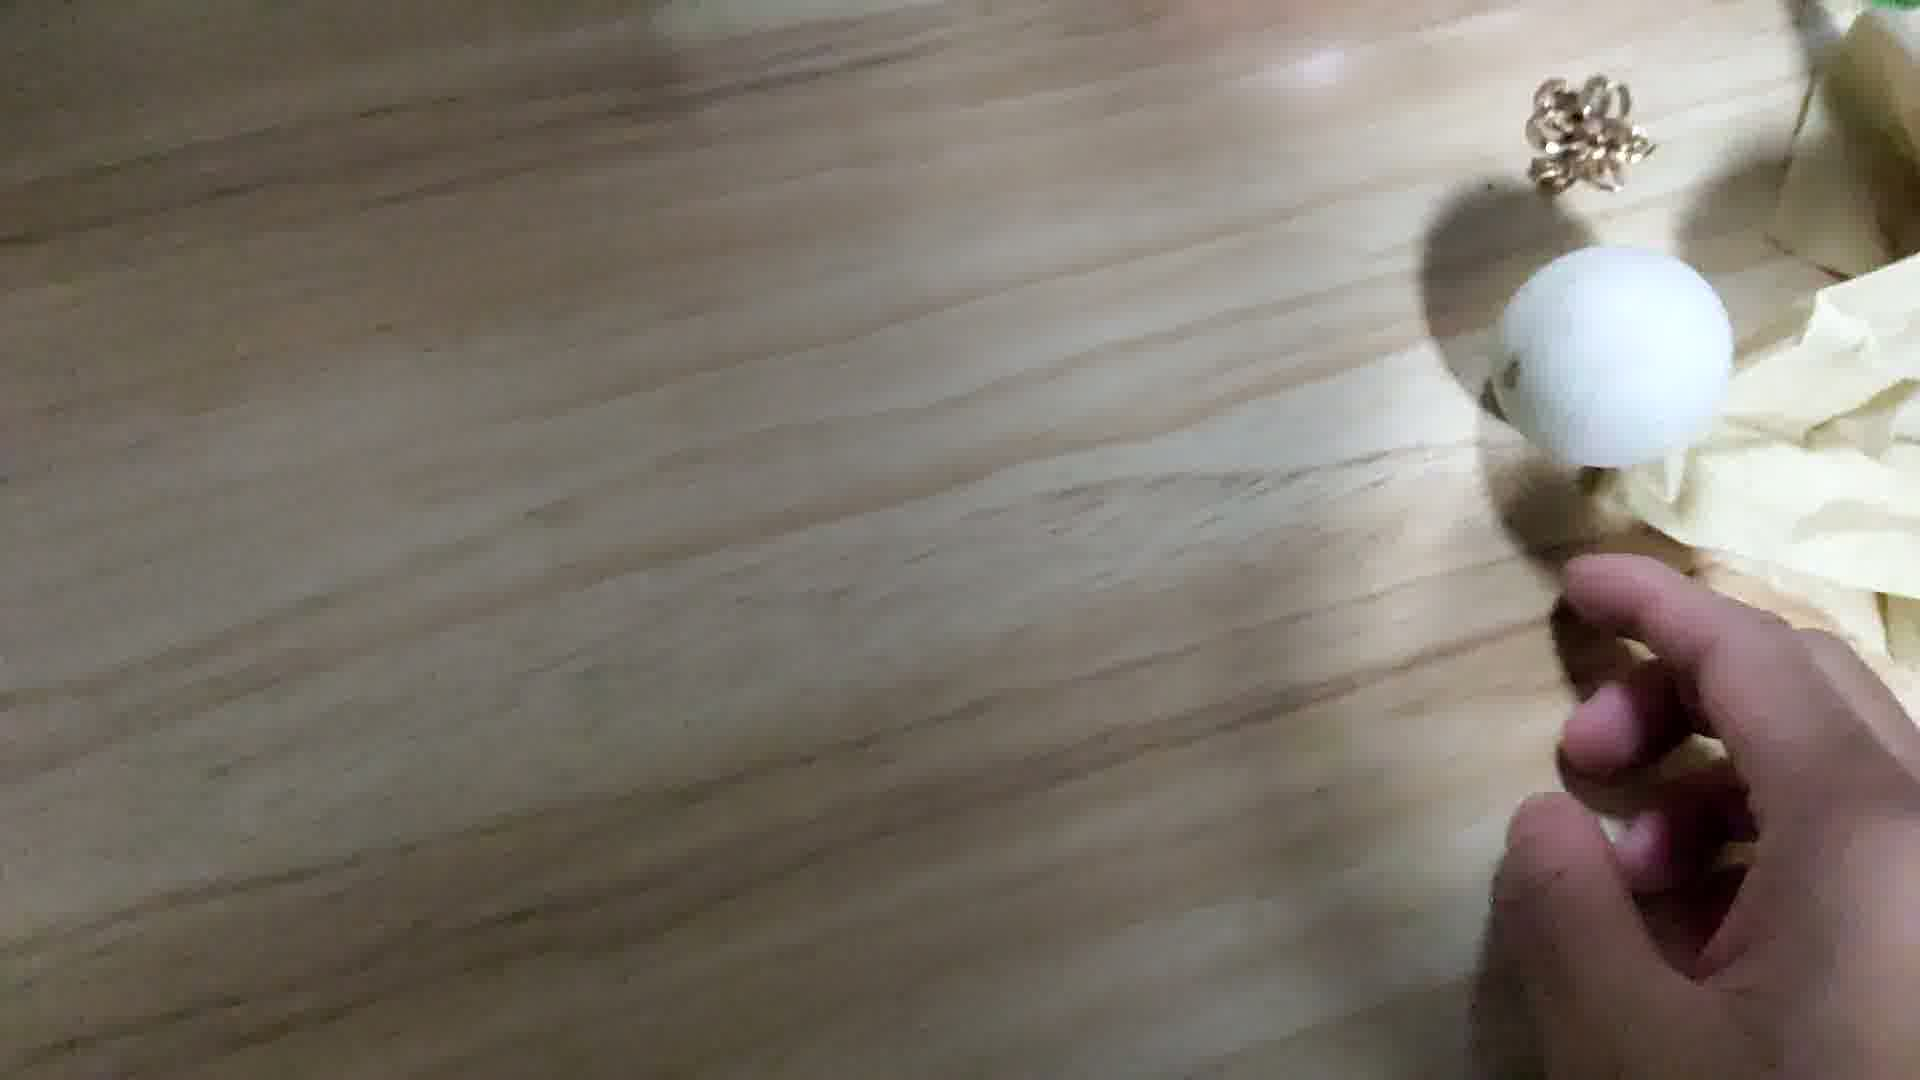Ball: (1484, 243, 1733, 471)
